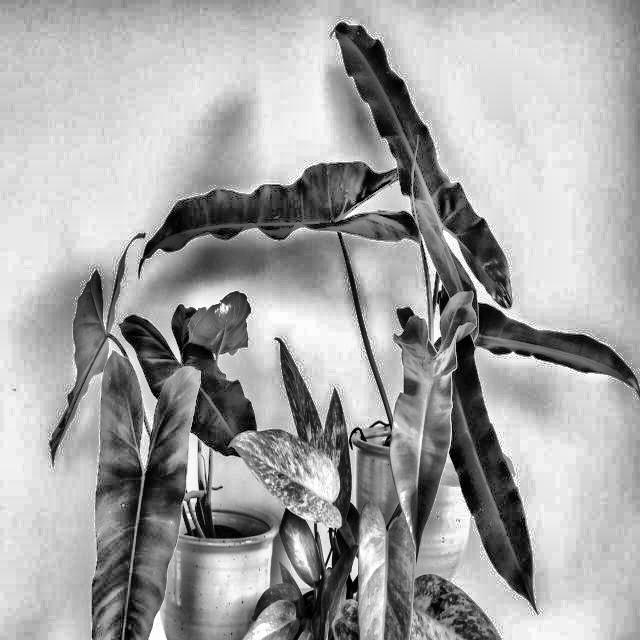plants: (314, 24, 640, 376), (38, 272, 266, 639), (259, 380, 381, 640), (46, 240, 111, 462)
